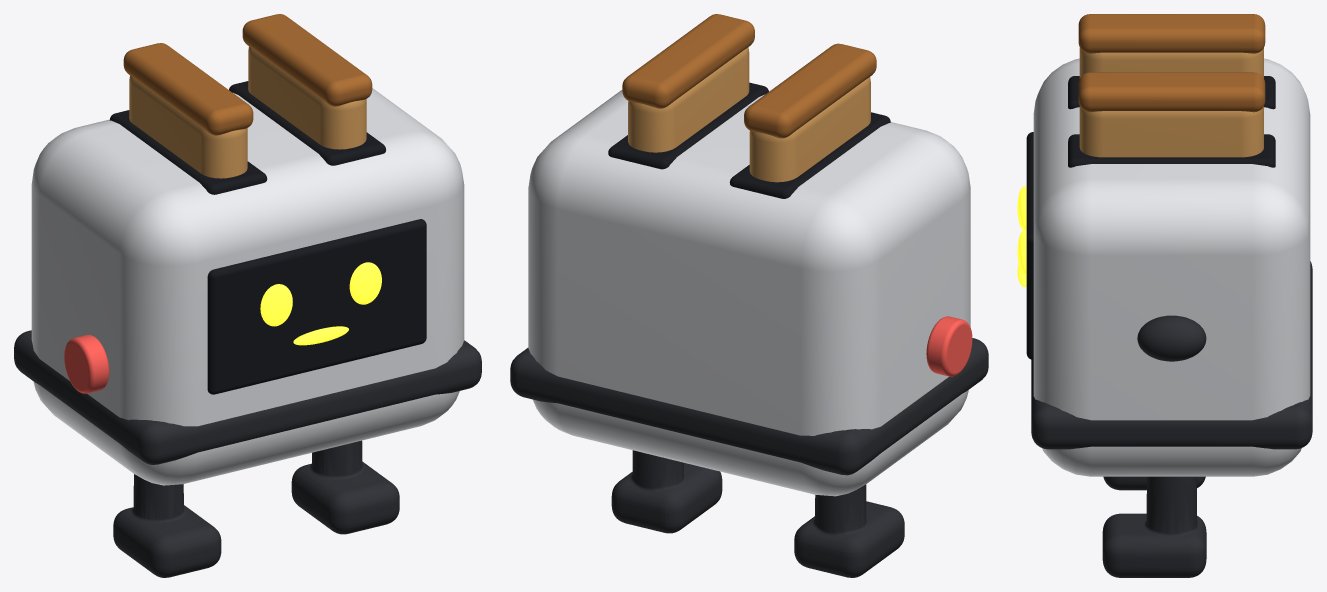
The model's file is toaster_bot.glb.
3 views of the same model, side by side, from view 1: azimuth 30°, elevation 25°; view 2: azimuth 150°, elevation 25°; view 3: azimuth 270°, elevation 25° (orthographic). The views are drawn at different scales.
Parts seen in each view (by area): view 1: Toaster, Face, Band, Foot_R, Foot_L, Crust_L, Crust_R, Toast_L, Toast_R, Dial, Slot_L, Slot_R (+3 smaller); view 2: Toaster, Band, Foot_R, Foot_L, Crust_L, Crust_R, Toast_L, Toast_R, Dial, Slot_L, Slot_R; view 3: Toaster, Band, Toast_L, Foot_L, Crust_L, Crust_R, Toast_R, Lever, Slot_L, Face, Slot_R, Foot_R.
Part boxes in pixels (left/top/right/bottom): Toaster: left=31, top=88, right=464, bottom=485; Face: left=207, top=219, right=426, bottom=394; Band: left=14, top=330, right=481, bottom=464; Foot_R: left=113, top=474, right=221, bottom=577; Foot_L: left=291, top=440, right=399, bottom=534; Crust_L: left=242, top=14, right=372, bottom=106; Crust_R: left=123, top=43, right=253, bottom=135; Toast_L: left=248, top=46, right=366, bottom=149; Toast_R: left=129, top=75, right=247, bottom=178; Dial: left=64, top=335, right=109, bottom=393; Slot_L: left=229, top=81, right=385, bottom=165; Slot_R: left=109, top=110, right=267, bottom=194; Toaster: left=528, top=90, right=970, bottom=496; Band: left=510, top=338, right=988, bottom=475; Foot_R: left=794, top=484, right=904, bottom=577; Foot_L: left=611, top=450, right=722, bottom=533; Crust_L: left=622, top=14, right=754, bottom=108; Crust_R: left=744, top=43, right=876, bottom=138; Toast_L: left=628, top=47, right=749, bottom=152; Toast_R: left=749, top=77, right=870, bottom=182; Dial: left=926, top=316, right=972, bottom=376; Slot_L: left=608, top=82, right=768, bottom=169; Slot_R: left=729, top=112, right=890, bottom=198; Toaster: left=1033, top=58, right=1310, bottom=476; Band: left=1031, top=261, right=1312, bottom=449; Toast_L: left=1079, top=106, right=1263, bottom=157; Foot_L: left=1102, top=476, right=1206, bottom=577; Crust_L: left=1078, top=72, right=1265, bottom=112; Crust_R: left=1078, top=14, right=1265, bottom=53; Toast_R: left=1079, top=48, right=1263, bottom=78; Lever: left=1137, top=315, right=1206, bottom=361; Slot_L: left=1068, top=134, right=1275, bottom=167; Face: left=1026, top=132, right=1033, bottom=359; Slot_R: left=1068, top=76, right=1275, bottom=109; Foot_R: left=1103, top=476, right=1205, bottom=490.
Size of the model in its own units: 0.4 by 0.452 by 0.256.
